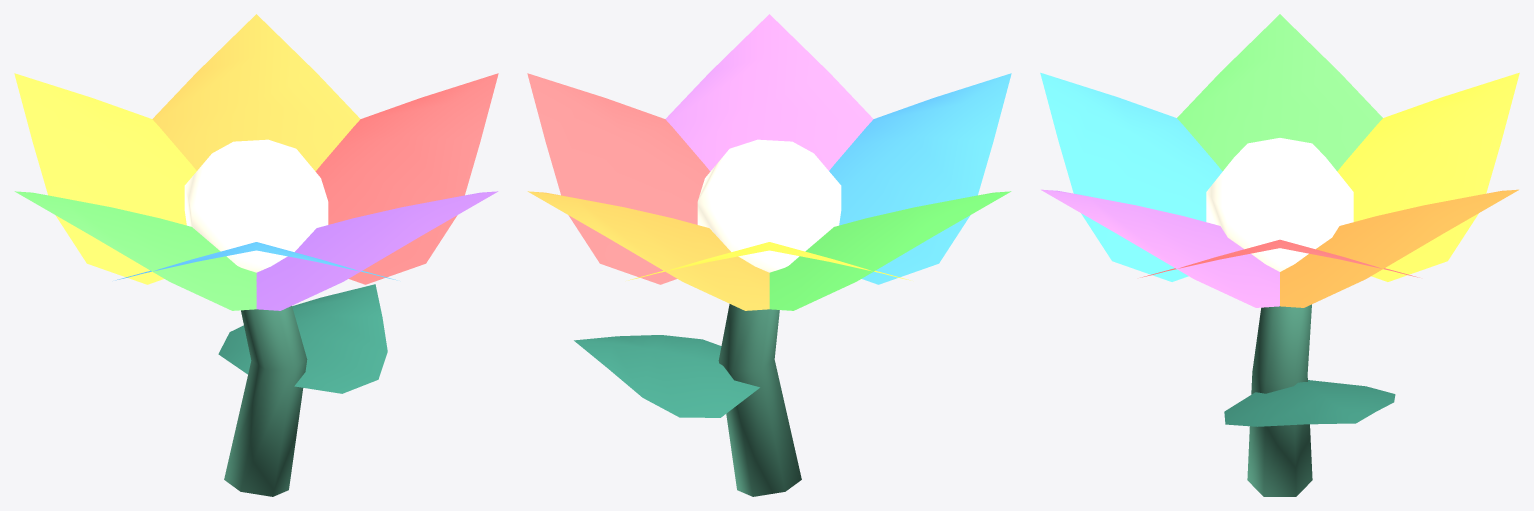
The model's file is arco-iris-de-petala.glb.
The picture shows the model from 3 angles, left to right: view 1: azimuth 30°, elevation 25°; view 2: azimuth 150°, elevation 25°; view 3: azimuth 270°, elevation 25°; orthographic projection.
Parts seen in each view (by area): view 1: arco-iris-de-petala; view 2: arco-iris-de-petala; view 3: arco-iris-de-petala.
Boxes of the visible parts, <box> form: arco-iris-de-petala: <box>14,14,498,496</box>; arco-iris-de-petala: <box>527,14,1011,496</box>; arco-iris-de-petala: <box>1040,14,1519,496</box>.
Bounding box in the file's own units: 0.17 × 0.1199 × 0.1472.
